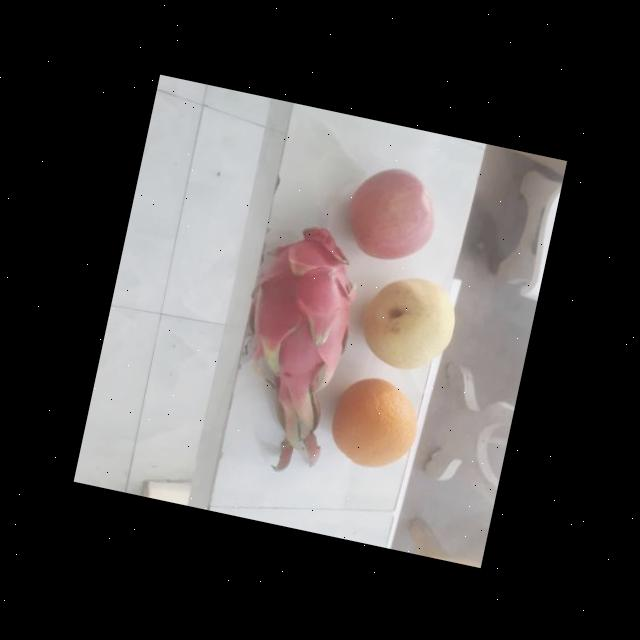apple: (342, 158, 444, 267)
orange: (325, 368, 426, 476)
pear: (354, 262, 463, 378)
pitaya: (235, 201, 374, 400)
